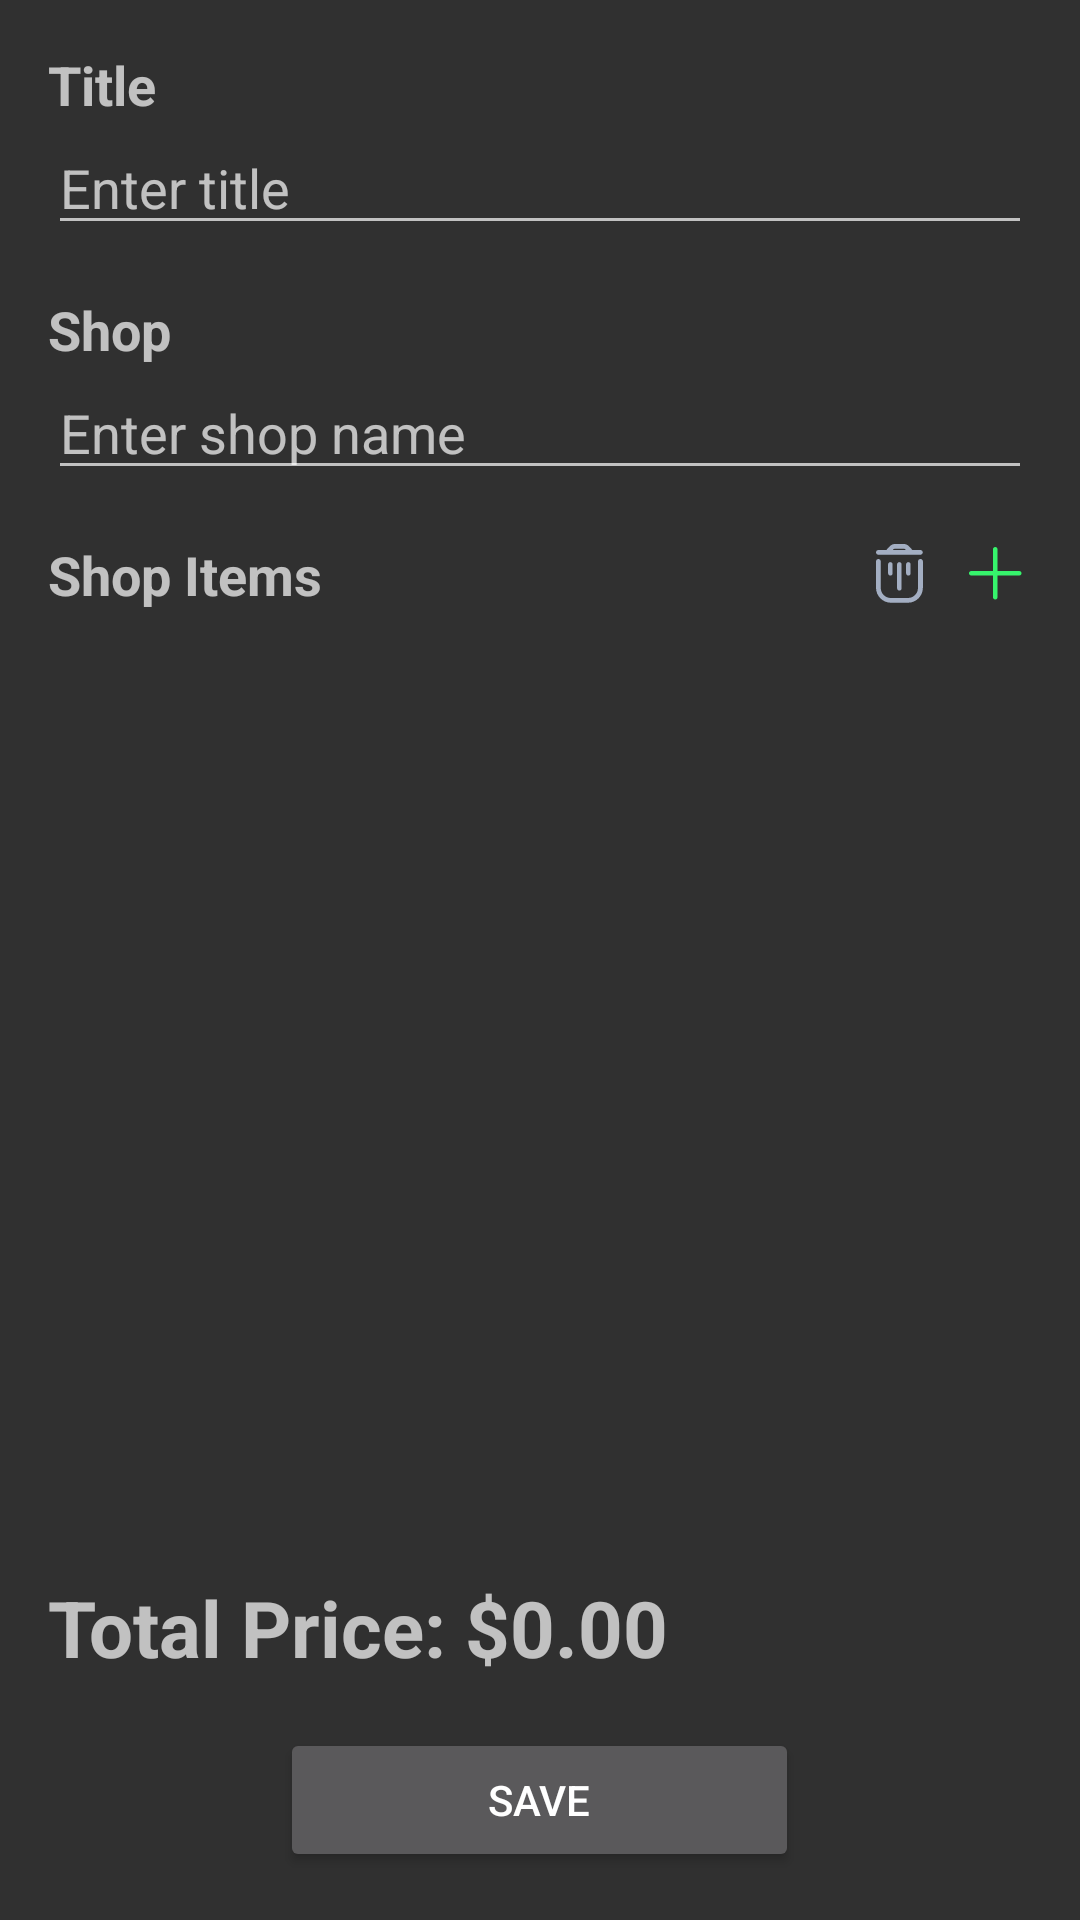

Icon click points for this 1080w x 1920h phone screenshot, format [x,y]:
Add Item: [995,573]
Delete Item: [899,573]
